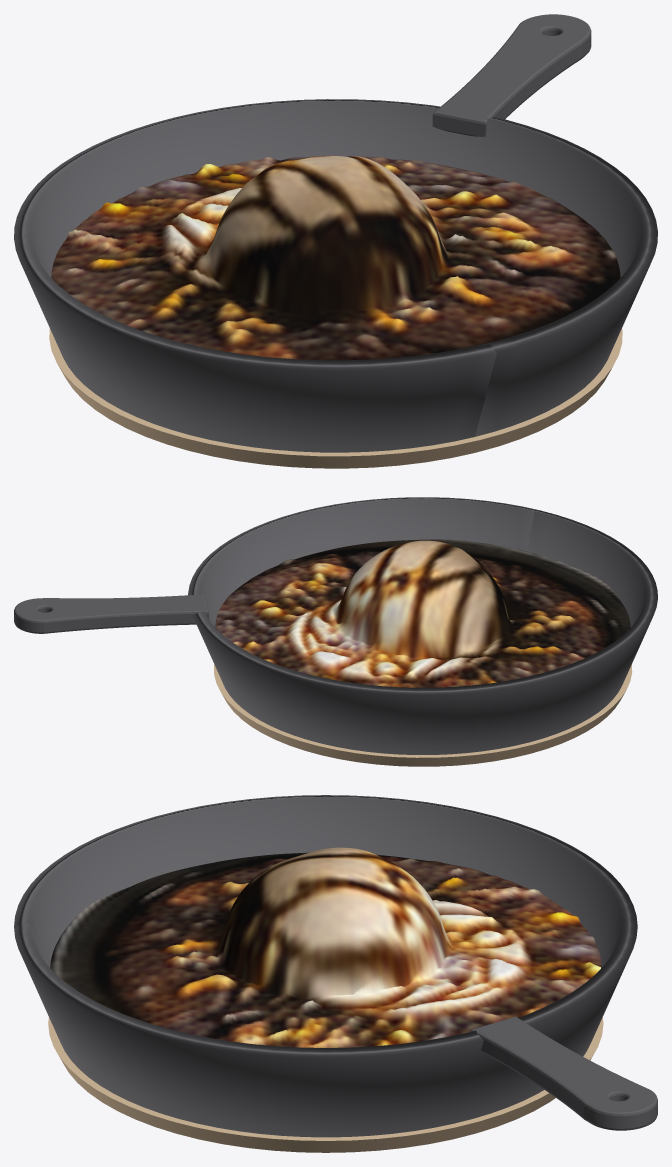
The model's file is skillet-brownie.glb.
3 views of the same model, one above another, from view 1: azimuth 30°, elevation 25°; view 2: azimuth 150°, elevation 25°; view 3: azimuth 270°, elevation 25° (orthographic). The views are drawn at different scales.
Visible parts, largest first — view 1: CastIronSkilletPan, PhotoSculptedBrownieAndGelato, CorkTrivetCoaster, CastIronTeardropHandle; view 2: CastIronSkilletPan, PhotoSculptedBrownieAndGelato, CastIronTeardropHandle, CorkTrivetCoaster; view 3: CastIronSkilletPan, PhotoSculptedBrownieAndGelato, CastIronTeardropHandle, CorkTrivetCoaster.
Boxes of the visible parts, x1,y1,x2,y2 form: CastIronSkilletPan: (14, 99, 657, 452); PhotoSculptedBrownieAndGelato: (51, 155, 620, 360); CorkTrivetCoaster: (49, 328, 622, 468); CastIronTeardropHandle: (432, 14, 591, 136); CastIronSkilletPan: (188, 497, 657, 754); PhotoSculptedBrownieAndGelato: (215, 539, 630, 687); CastIronTeardropHandle: (14, 594, 208, 633); CorkTrivetCoaster: (214, 664, 632, 766); CastIronSkilletPan: (14, 795, 637, 1137); PhotoSculptedBrownieAndGelato: (50, 847, 601, 1047); CastIronTeardropHandle: (470, 1016, 657, 1130); CorkTrivetCoaster: (48, 1017, 603, 1152).
Bounding box in the file's own units: 3.57 × 0.9164 × 3.01.
3 materials, 1 textured.
